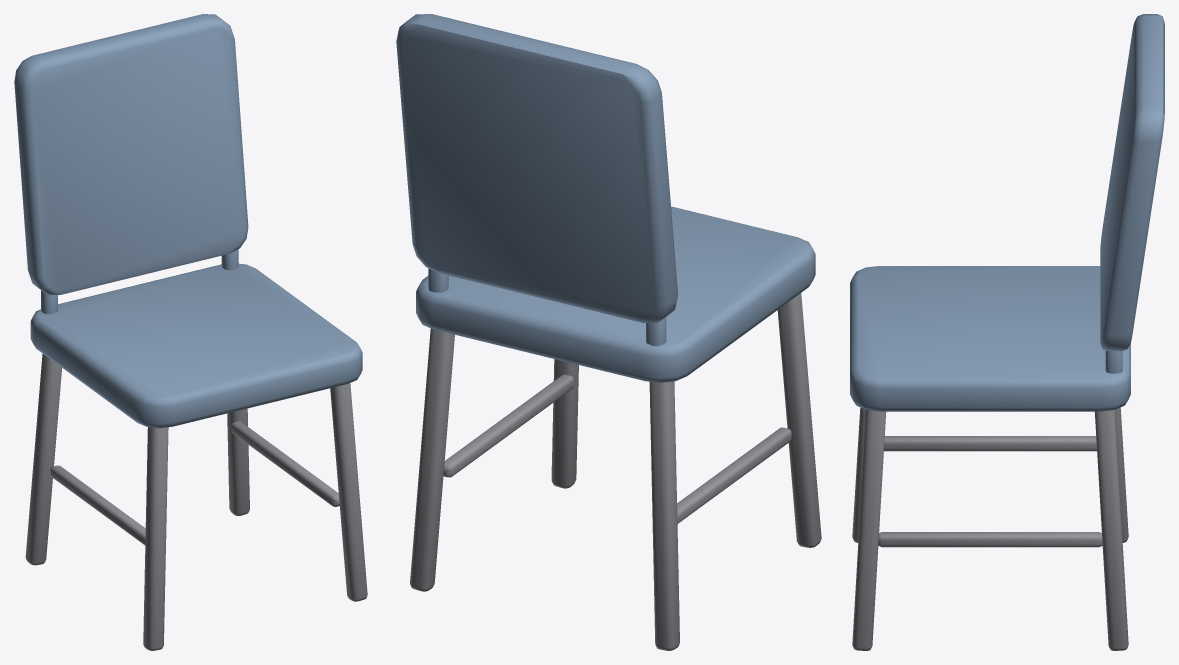
Rendered from chaise_controle.glb.
3 renders of one model, left to right at view 1: azimuth 30°, elevation 25°; view 2: azimuth 150°, elevation 25°; view 3: azimuth 270°, elevation 25°, orthographic. The views are drawn at different scales.
Parts seen in each view (by area): view 1: CHA_Ardoise_Clair, CHA_Gris_Moyen; view 2: CHA_Ardoise_Clair, CHA_Gris_Moyen; view 3: CHA_Ardoise_Clair, CHA_Gris_Moyen.
Part boxes in pixels (x1,y1,x2,y2): CHA_Ardoise_Clair: (14,14,362,428); CHA_Gris_Moyen: (25,354,367,650); CHA_Ardoise_Clair: (396,14,815,382); CHA_Gris_Moyen: (410,293,821,650); CHA_Ardoise_Clair: (850,14,1164,411); CHA_Gris_Moyen: (852,407,1128,650).
Size of the model in its own units: 0.42 by 0.8808 by 0.4708.
